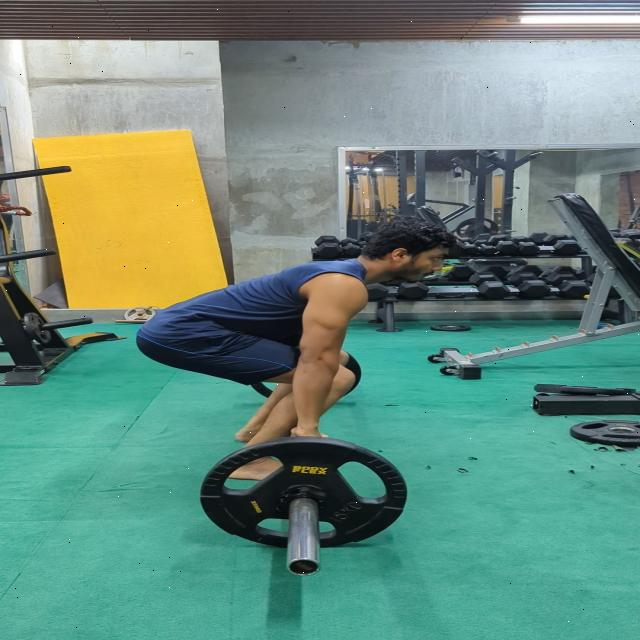Normal_Deadlifts: (135, 217, 473, 481)
